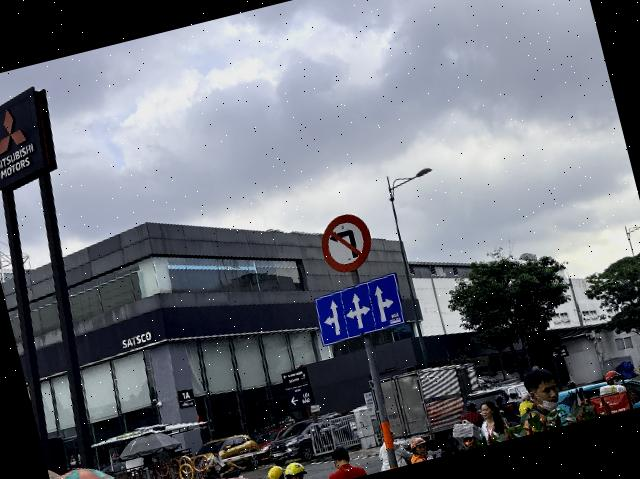cam-re-trai: (315, 209, 378, 278)
